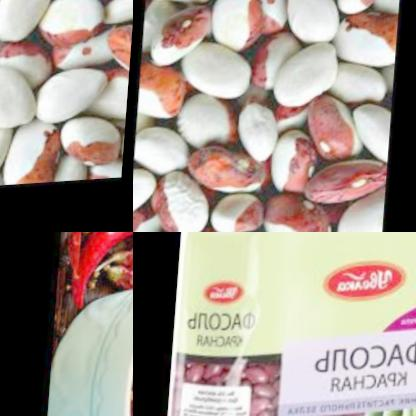fasol: (133, 0, 404, 232), (0, 0, 133, 205), (235, 347, 369, 416), (175, 351, 263, 397)
hot pepper: (62, 232, 133, 300), (66, 232, 125, 284), (103, 236, 133, 272), (106, 268, 133, 292)
